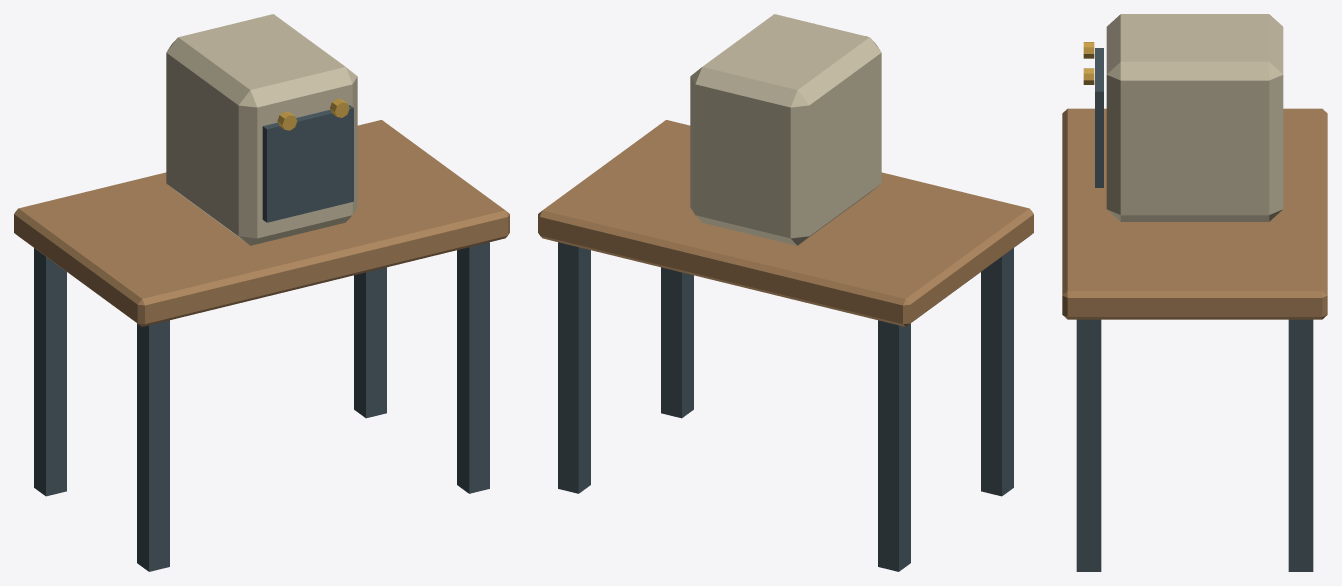
File: toaster_counter.glb
3 renders of one model, left to right at view 1: azimuth 30°, elevation 25°; view 2: azimuth 150°, elevation 25°; view 3: azimuth 270°, elevation 25°, orthographic. The views are drawn at different scales.
Visible parts, largest first — view 1: toaster_counter; view 2: toaster_counter; view 3: toaster_counter.
Part boxes in pixels (x1=…): toaster_counter: x1=14, y1=14, x2=509, y2=571; toaster_counter: x1=538, y1=14, x2=1033, y2=571; toaster_counter: x1=1062, y1=14, x2=1327, y2=571.
Size of the model in its own units: 1.25 by 1.4 by 0.75.
